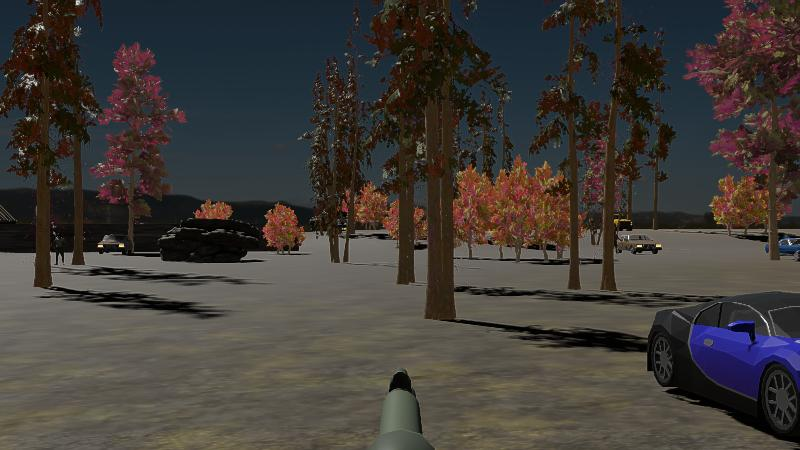car: (646, 294, 799, 442), (612, 231, 663, 256), (765, 235, 800, 262), (96, 232, 130, 255), (610, 214, 634, 233)
